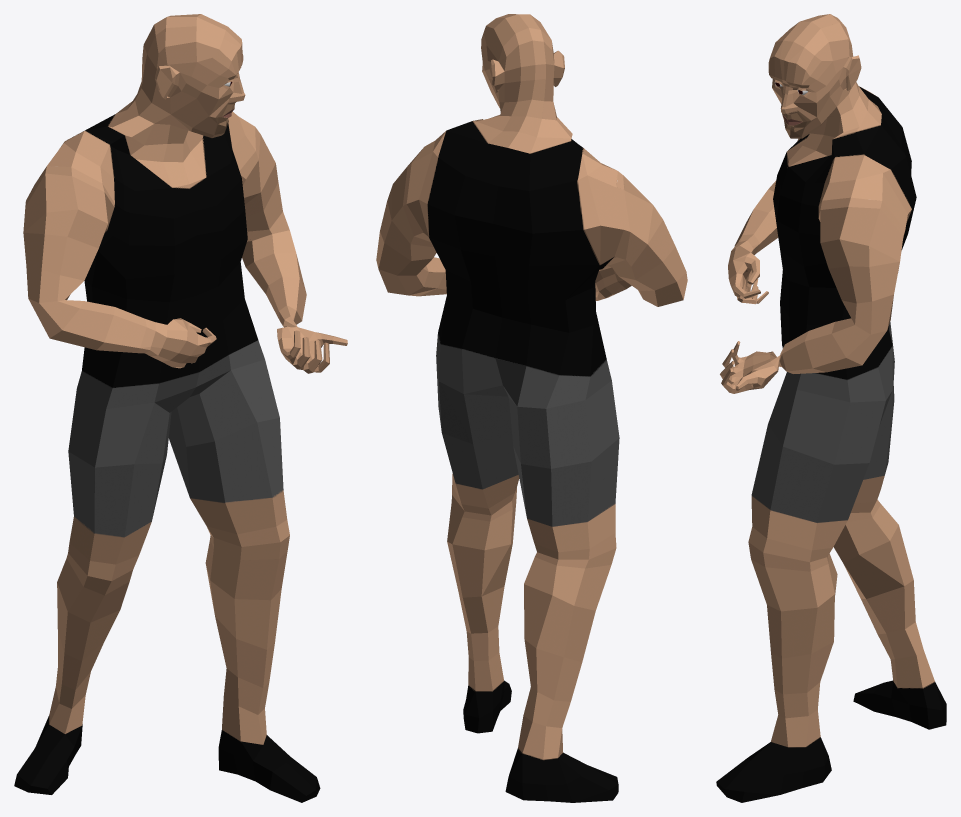
Rendered from PlayerIdle(152).obj.
The picture shows the model from 3 angles, left to right: view 1: azimuth 30°, elevation 25°; view 2: azimuth 150°, elevation 25°; view 3: azimuth 270°, elevation 25°; orthographic projection. The views are drawn at different scales.
Visible parts, largest first — view 1: Plane002; view 2: Plane002; view 3: Plane002.
Boxes of the visible parts, x1,y1,x2,y2 form: Plane002: [14, 14, 347, 802]; Plane002: [376, 14, 687, 802]; Plane002: [716, 14, 946, 802].
Bounding box in the file's own units: 703 × 1790 × 505.
